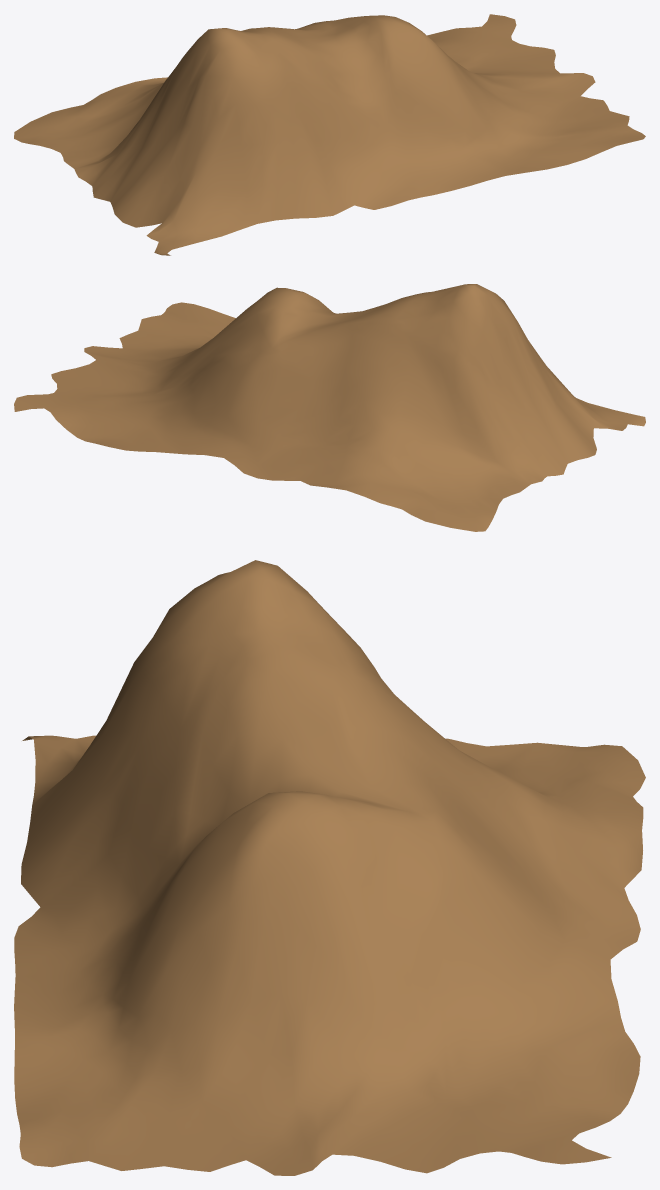
Rendered from background3.fbx.
The picture shows the model from 3 angles, top to bottom: view 1: azimuth 30°, elevation 25°; view 2: azimuth 150°, elevation 25°; view 3: azimuth 270°, elevation 25°; orthographic projection. The views are drawn at different scales.
Parts seen in each view (by area): view 1: polySurface3; view 2: polySurface3; view 3: polySurface3.
Boxes of the visible parts, x1,y1,x2,y2 form: polySurface3: (14,14,645,255); polySurface3: (14,284,645,531); polySurface3: (14,560,645,1175).
Size of the model in its own units: 692 by 206 by 412.
